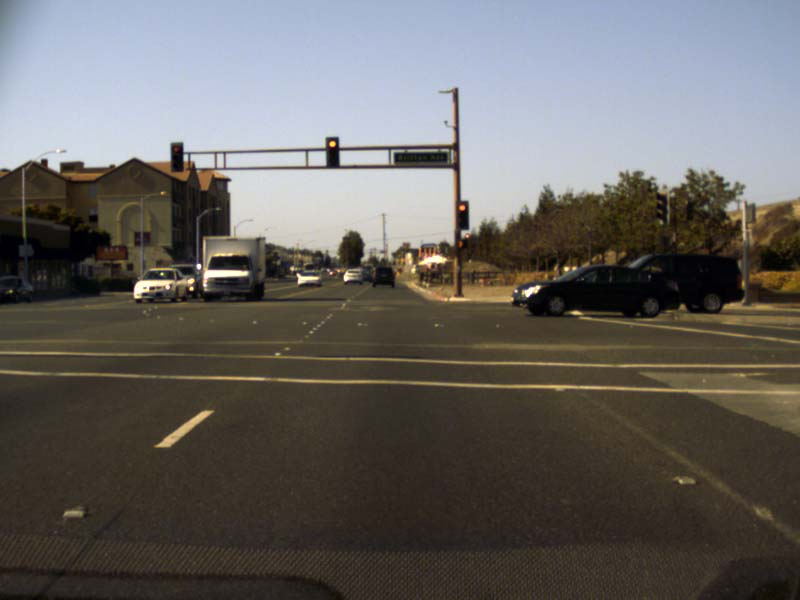Red: (325, 136, 340, 165), (170, 144, 183, 169), (456, 201, 466, 227)
